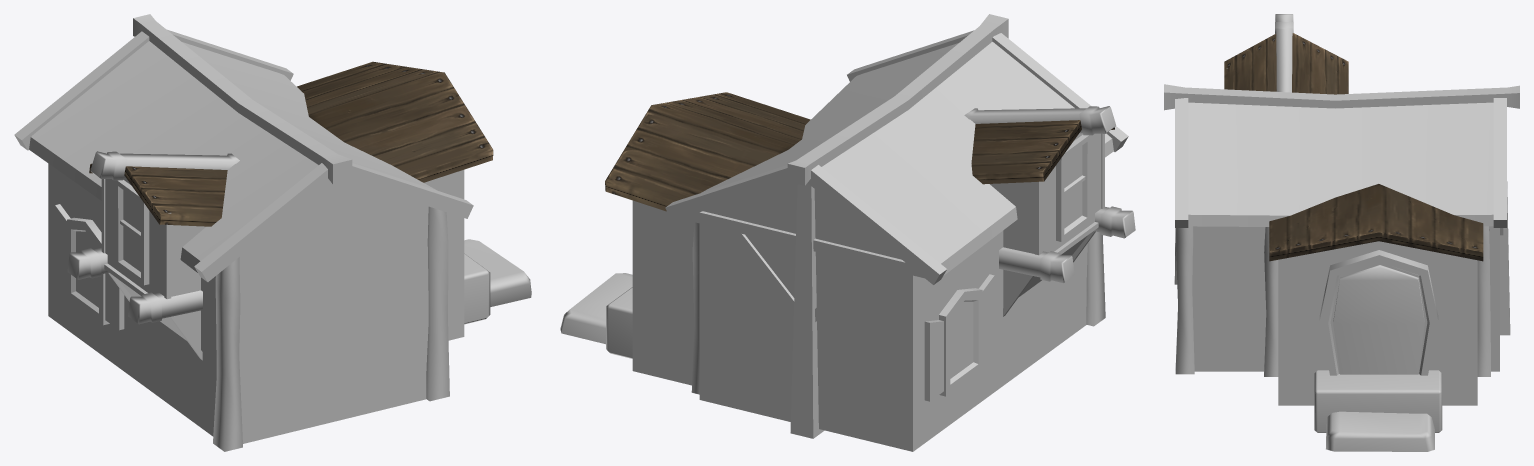
Rendered from SquareHouse.fbx.
3 renders of one model, left to right at view 1: azimuth 30°, elevation 25°; view 2: azimuth 150°, elevation 25°; view 3: azimuth 270°, elevation 25°, orthographic. The views are drawn at different scales.
Parts seen in each view (by area): view 1: SquareStructure, Porch1, WindowBox4, Window3, Window6, Slab6, Block7; view 2: SquareStructure, Porch1, WindowBox4, Window3, Window6, Slab6, Block7, Strut6; view 3: SquareStructure, Porch1, Door1, WindowBox4, Block7, Slab6, DoorFrame1, Strut6, Strut5.
Part boxes in pixels (left/top/right/bottom): SquareStructure: left=14, top=14, right=473, bottom=451; Porch1: left=297, top=61, right=493, bottom=340; WindowBox4: left=67, top=151, right=239, bottom=360; Window3: left=55, top=204, right=124, bottom=330; Window6: left=115, top=180, right=149, bottom=285; Slab6: left=464, top=239, right=531, bottom=306; Block7: left=464, top=253, right=490, bottom=324; SquareStructure: left=665, top=14, right=1128, bottom=451; Porch1: left=605, top=92, right=810, bottom=385; WindowBox4: left=964, top=106, right=1135, bottom=316; Window3: left=924, top=274, right=994, bottom=401; Window6: left=1056, top=135, right=1090, bottom=241; Slab6: left=560, top=273, right=632, bottom=344; Block7: left=606, top=287, right=632, bottom=358; Strut6: left=691, top=222, right=699, bottom=394; SquareStructure: left=1164, top=84, right=1519, bottom=374; Porch1: left=1269, top=184, right=1483, bottom=405; Door1: left=1333, top=265, right=1424, bottom=374; WindowBox4: left=1224, top=14, right=1348, bottom=94; Block7: left=1314, top=370, right=1442, bottom=432; Slab6: left=1326, top=411, right=1434, bottom=451; DoorFrame1: left=1319, top=250, right=1438, bottom=375; Strut6: left=1477, top=226, right=1490, bottom=376; Strut5: left=1264, top=227, right=1278, bottom=376.
Size of the model in its own units: 13.22 by 7.51 by 9.87.
